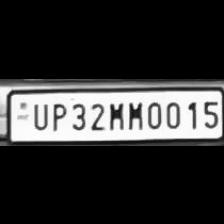0: (144, 98, 164, 128), (162, 98, 182, 128)
1: (181, 96, 199, 128)
2: (86, 97, 106, 130)
3: (67, 97, 87, 130)
5: (199, 96, 221, 128)
M: (124, 97, 144, 129), (105, 98, 124, 130)
P: (48, 98, 68, 130)
U: (28, 99, 48, 129)
